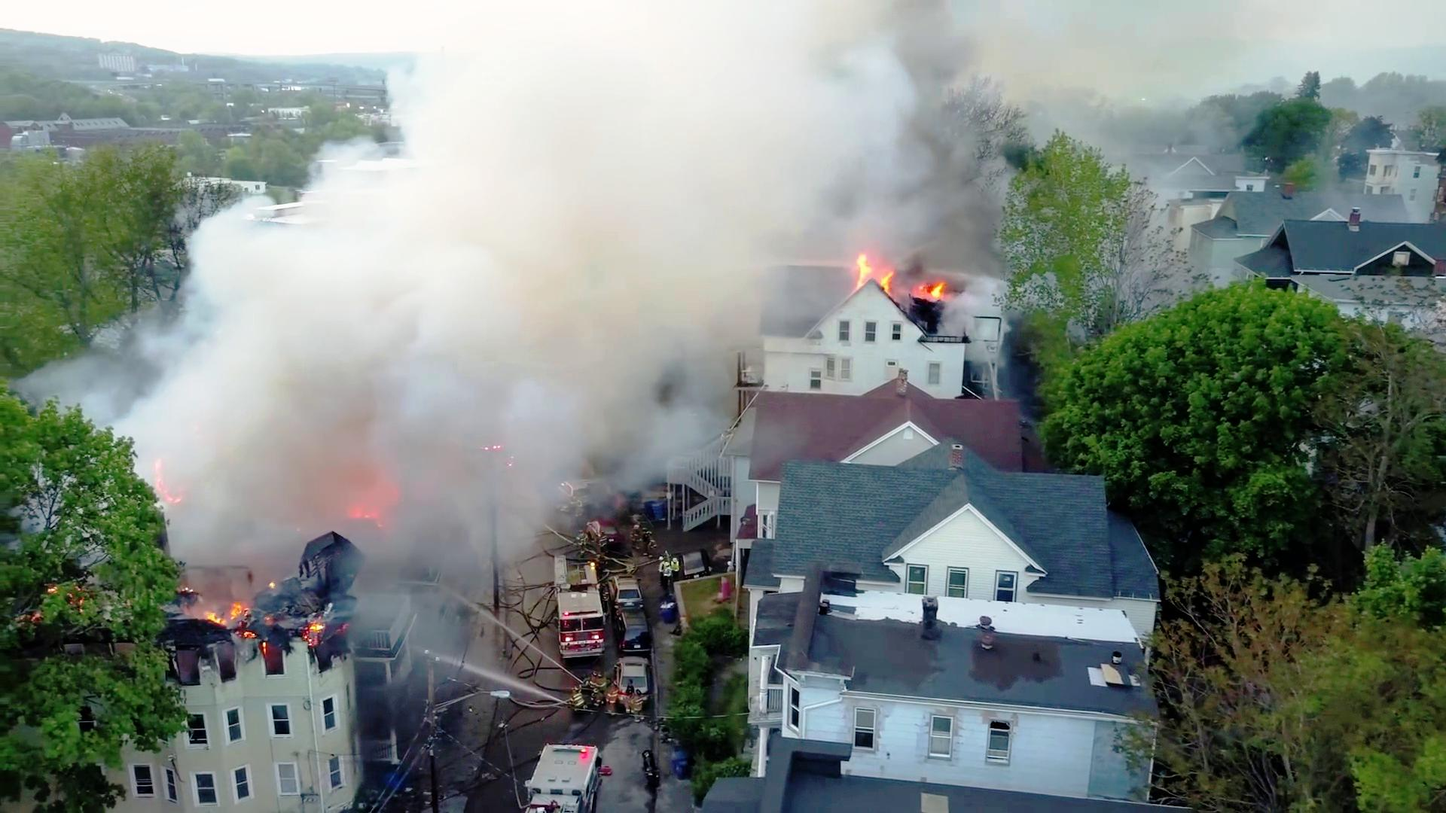smoke: (224, 221, 572, 466)
